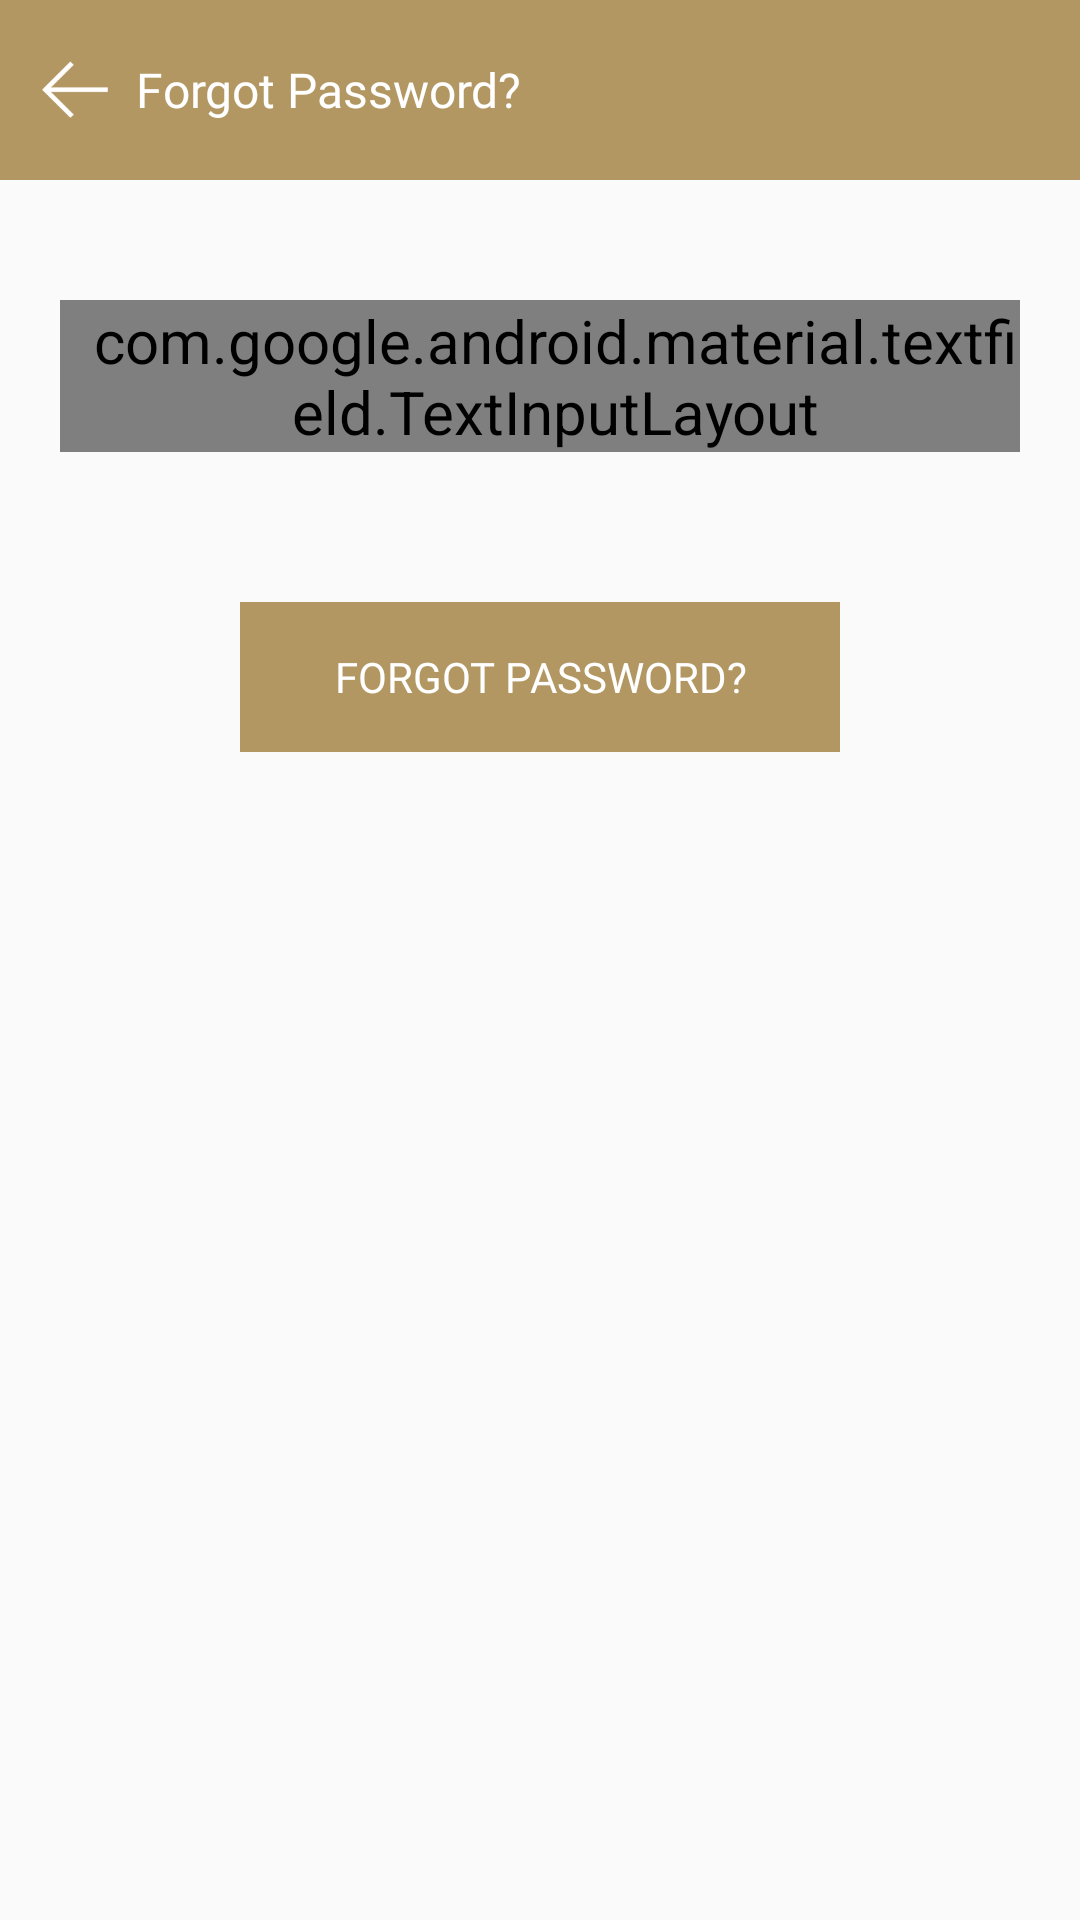

Named icons in this screenshot (1080 × 1920) and their bounding boxes, region(x1, y1, x2, y2):
back: region(42, 61, 108, 118)
